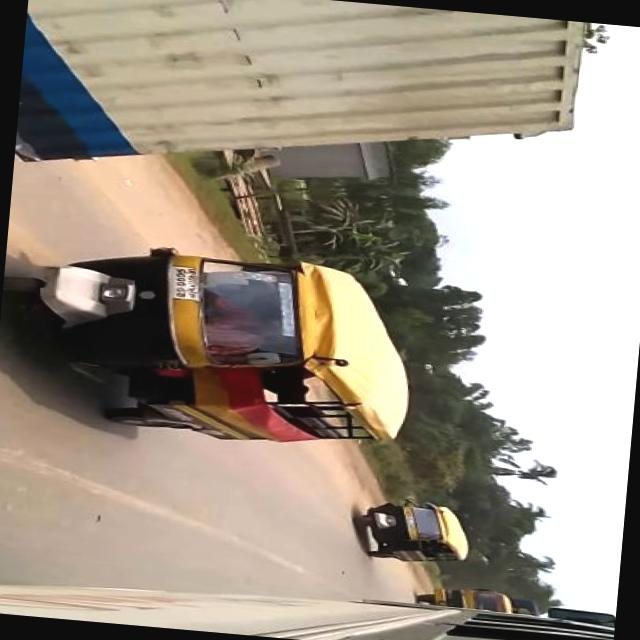bus: (0, 552, 615, 640)
motorcycle: (0, 228, 424, 461), (347, 494, 480, 568)
truck: (20, 0, 608, 213), (418, 584, 542, 616)
